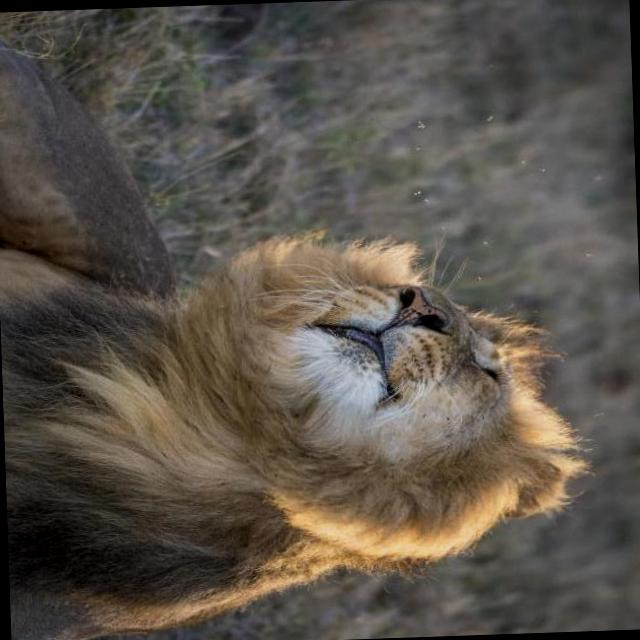lions: (0, 121, 614, 640)
